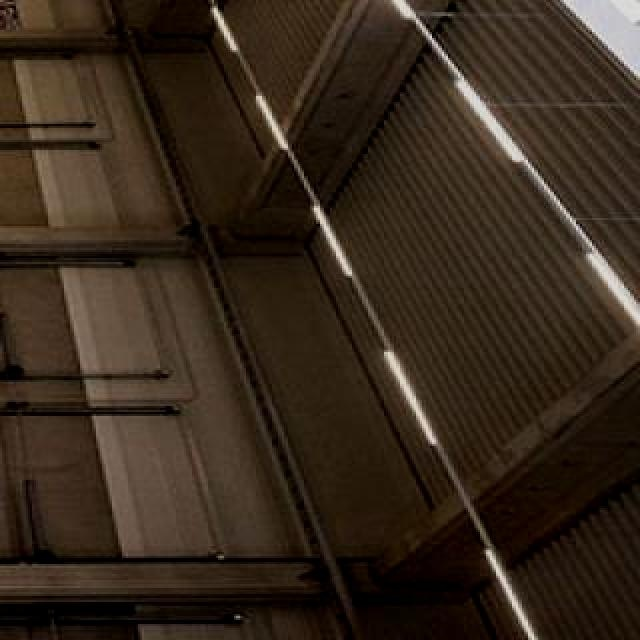fluorescent tube: (451, 522, 551, 640), (433, 64, 527, 175), (369, 331, 442, 456), (562, 236, 640, 333), (300, 191, 364, 309), (234, 78, 303, 160), (203, 4, 254, 71), (352, 0, 422, 24)
